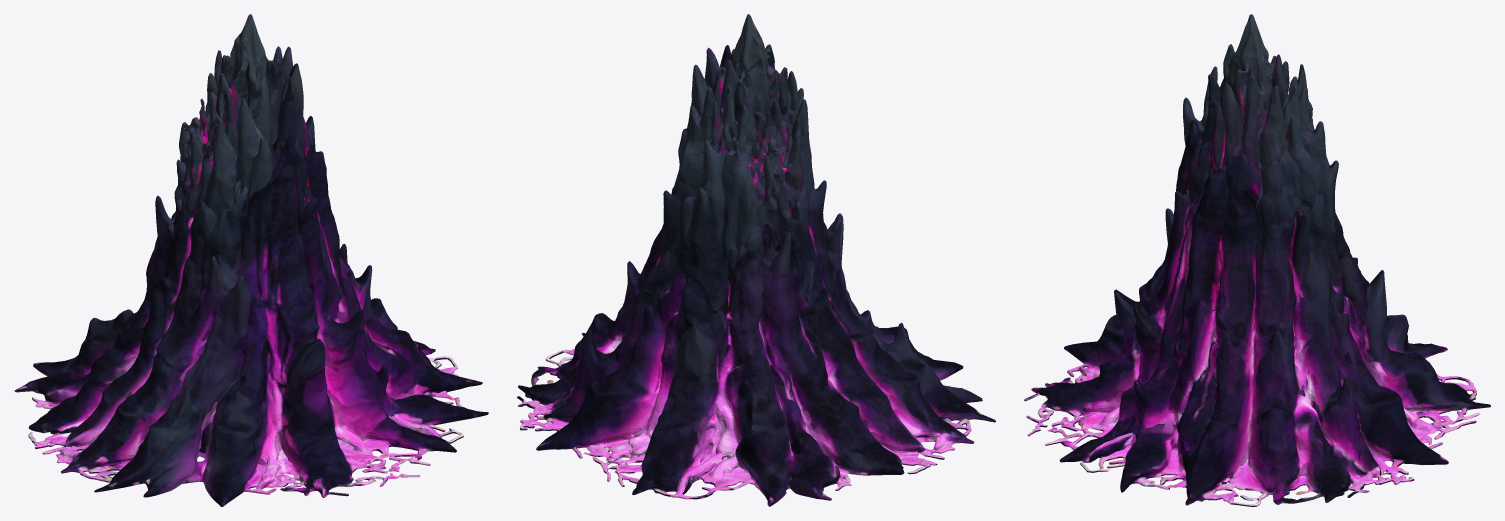
Rendered from root-mound-generated-2026-04-19T16-18-52-077Z.high.glb.
3 renders of one model, left to right at view 1: azimuth 30°, elevation 25°; view 2: azimuth 150°, elevation 25°; view 3: azimuth 270°, elevation 25°, orthographic.
Parts seen in each view (by area): view 1: temp_mesh.ply; view 2: temp_mesh.ply; view 3: temp_mesh.ply.
Boxes of the visible parts, box(x1,y1,x2,y2) form: temp_mesh.ply: box(14, 14, 488, 506); temp_mesh.ply: box(517, 14, 995, 506); temp_mesh.ply: box(1024, 14, 1490, 506).
Size of the model in its own units: 1.97 by 1.82 by 1.94.
1 material, 1 textured.
